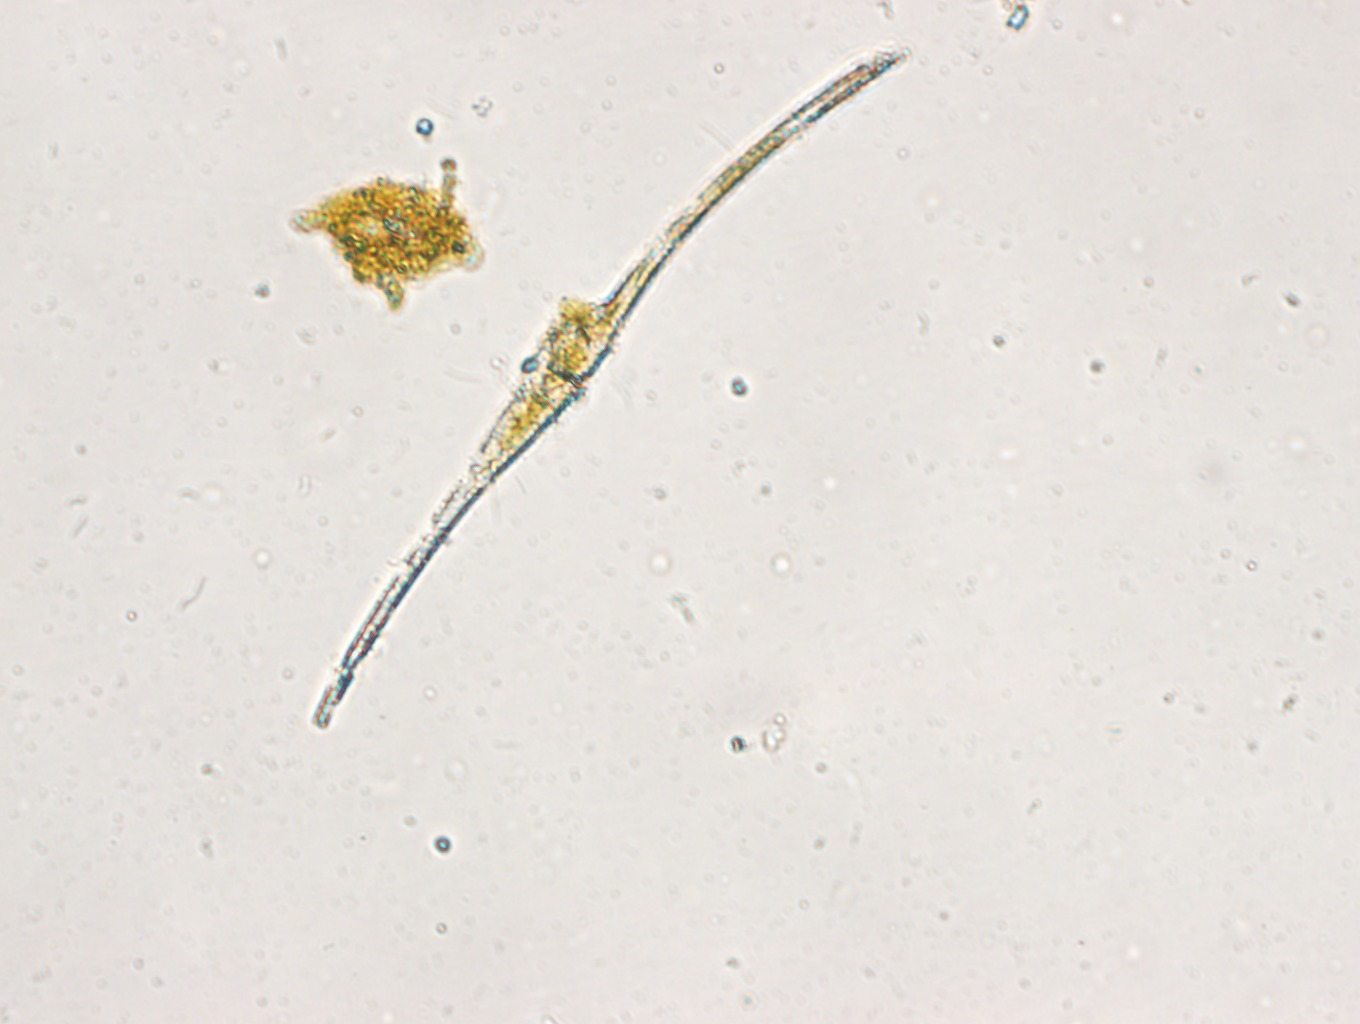ceratium fusus: (307, 31, 913, 750)
